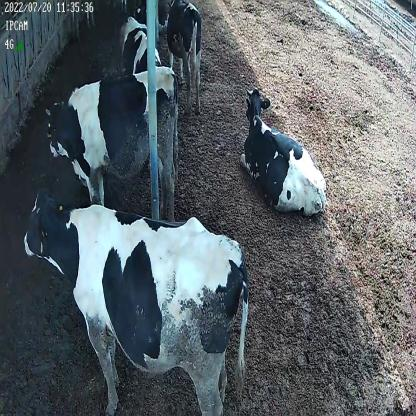cow: (24, 175, 251, 416), (46, 66, 181, 223), (239, 85, 330, 217), (167, 0, 203, 114)
